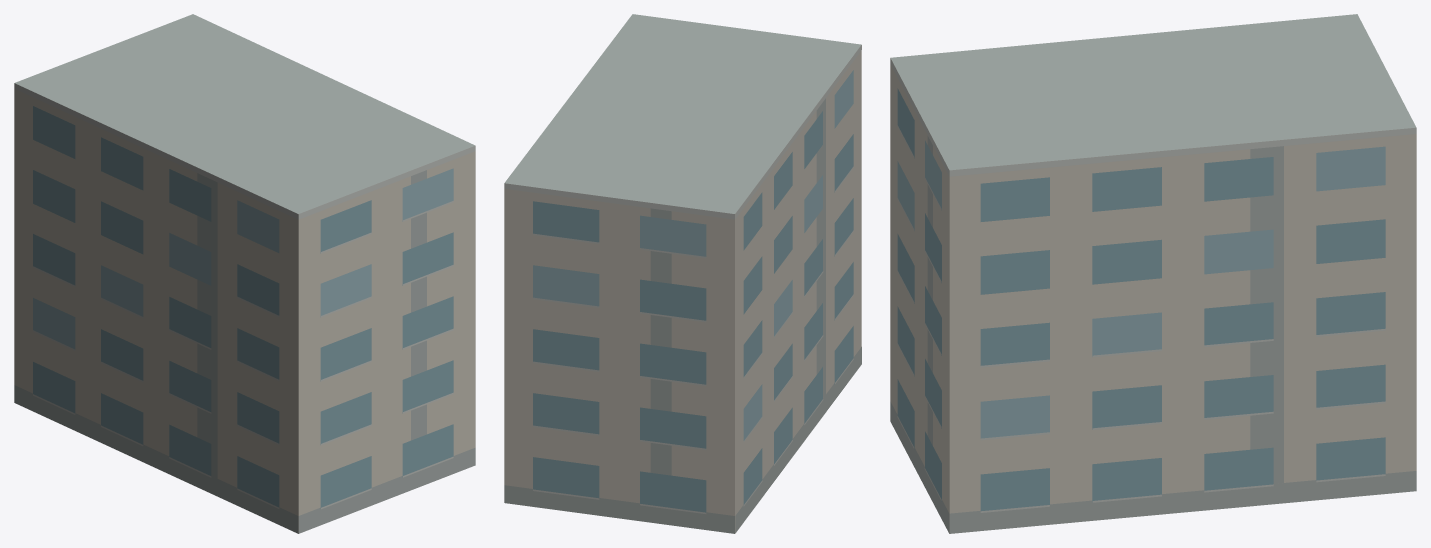
Rendered from survey-upis-32823516.glb.
3 renders of one model, left to right at view 1: azimuth 30°, elevation 25°; view 2: azimuth 150°, elevation 25°; view 3: azimuth 270°, elevation 25°, orthographic. The views are drawn at different scales.
Parts seen in each view (by area): view 1: survey-upis-32823516.tmp; view 2: survey-upis-32823516.tmp; view 3: survey-upis-32823516.tmp.
Boxes of the visible parts, x1,y1,x2,y2 form: survey-upis-32823516.tmp: (14, 14, 475, 533); survey-upis-32823516.tmp: (504, 14, 861, 533); survey-upis-32823516.tmp: (890, 14, 1416, 533).
Size of the model in its own units: 12.93 by 14 by 18.38.
